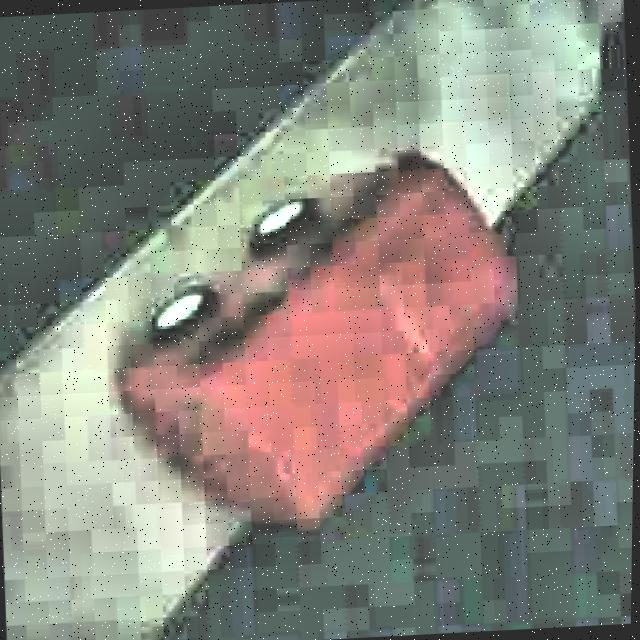bus: (100, 148, 537, 530)
